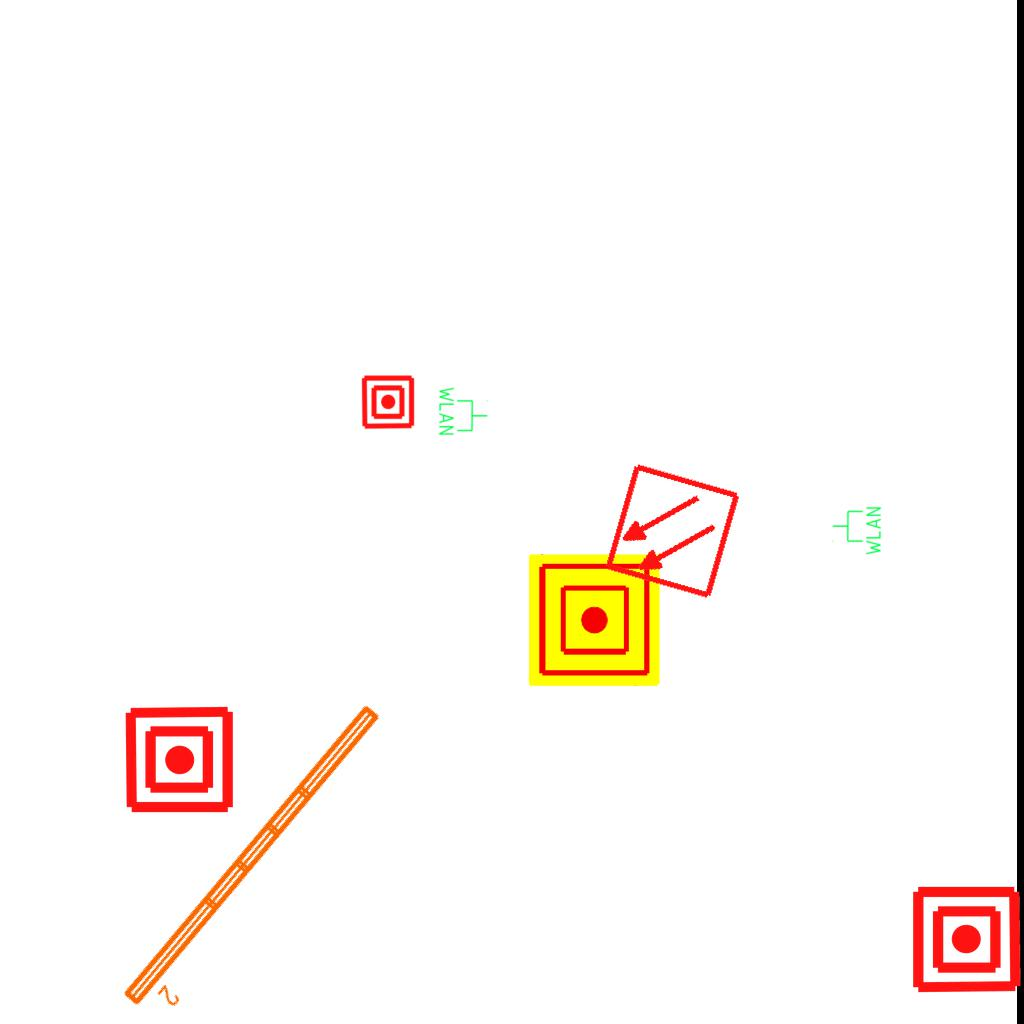Ambulanz_Pendelleuchte_LED: (115, 696, 408, 1024)
NAM-Nichtautomatischer_Melder: (528, 554, 660, 686), (910, 883, 1023, 996), (123, 703, 236, 816), (360, 374, 416, 430)
RMO_Rauchmelder_optischer: (602, 461, 743, 602)
WLAN: (437, 385, 489, 437), (831, 505, 883, 557)
